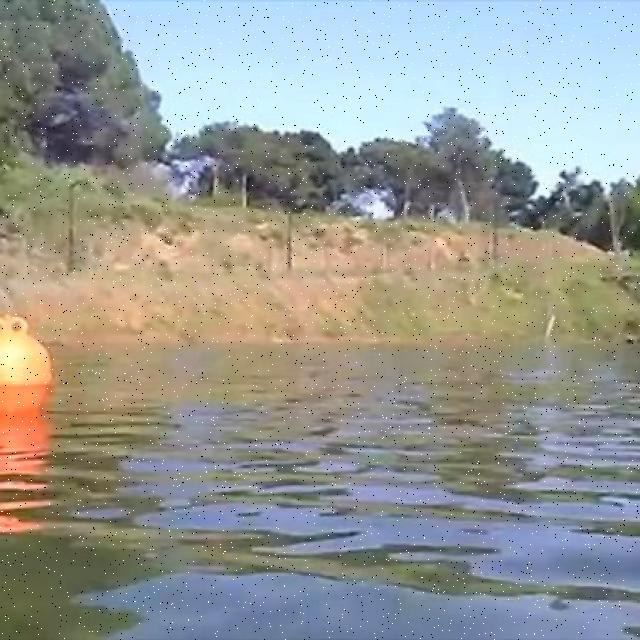buoy: (0, 314, 53, 414)
